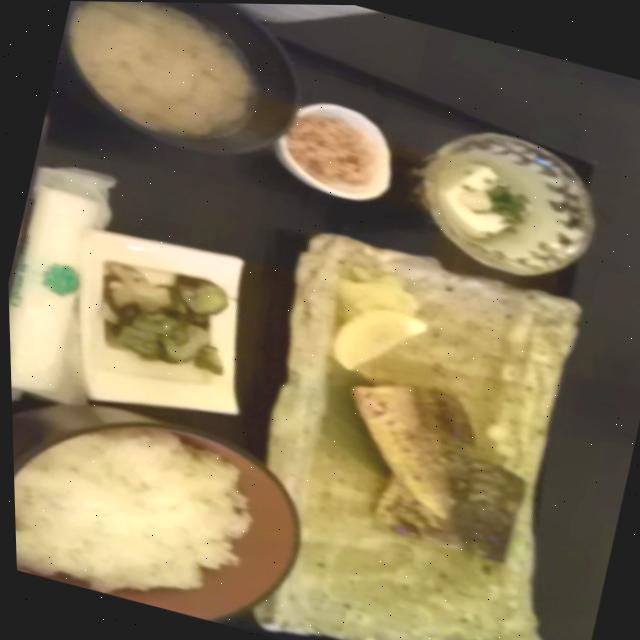汤锅炖物: (39, 0, 340, 192)
米饭主食: (8, 361, 329, 640)
豆腐料理: (389, 104, 634, 296)
